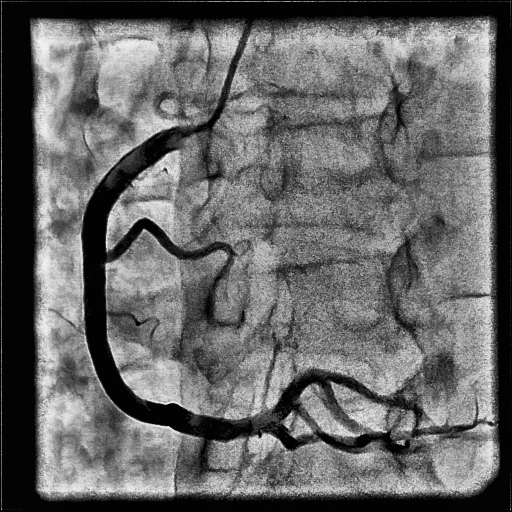pborca: (257, 368, 414, 431)
pda: (267, 420, 494, 452)
rca: (82, 128, 262, 441)
